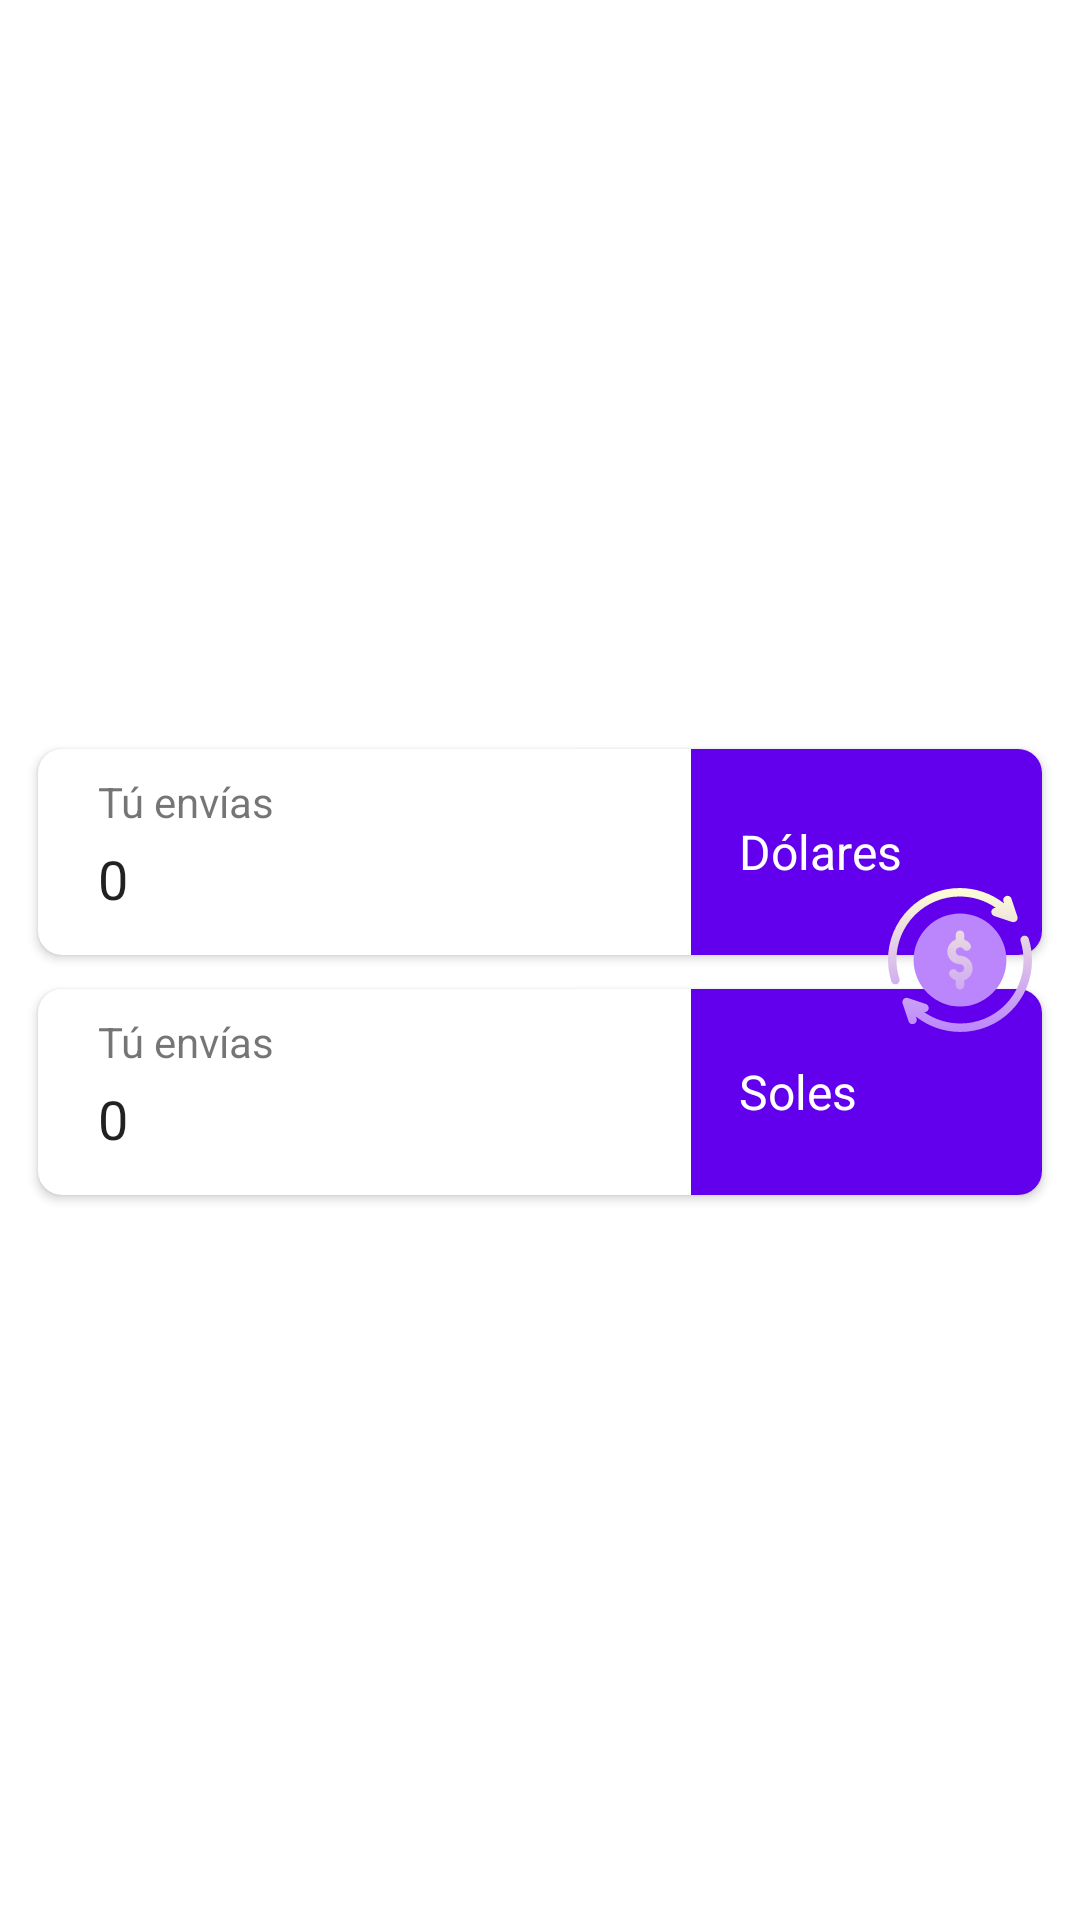

Where to tap for icons on this 1080px×1920px app screen, as point (x, y):
currency exchange: point (960, 960)
